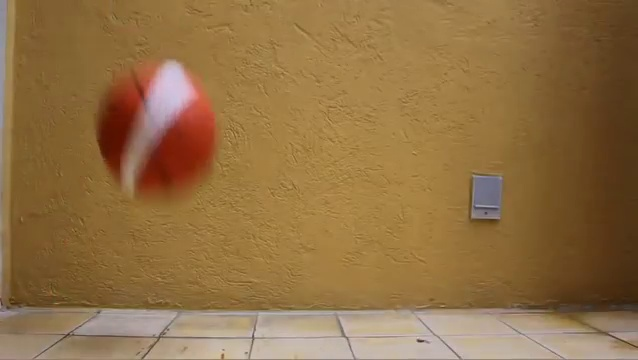ball: (96, 54, 220, 205)
